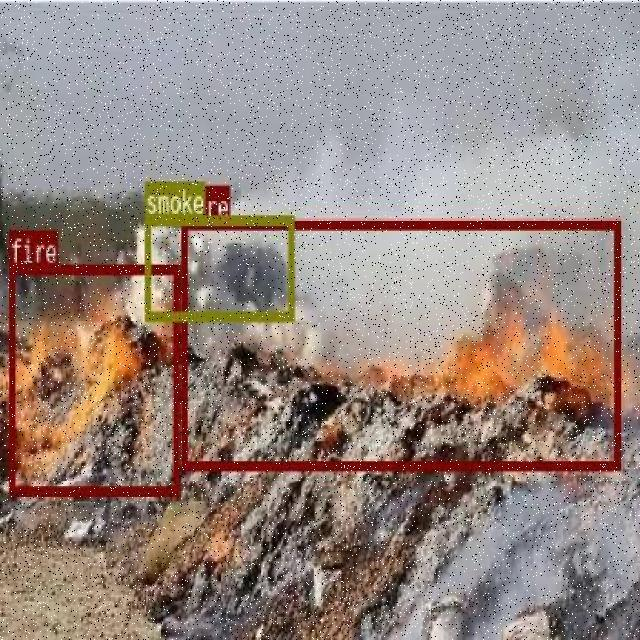Smoke: (176, 215, 261, 318)
